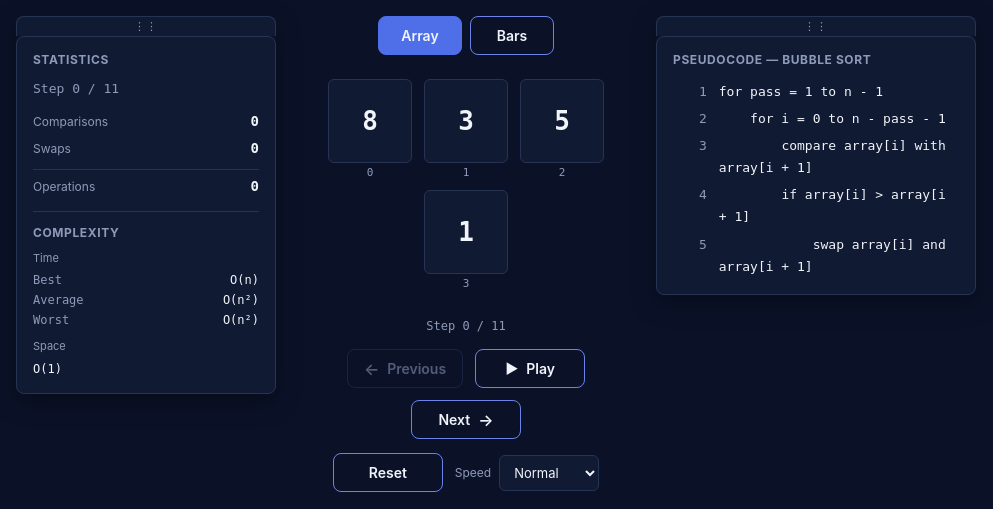
Scenario: CodeView integration — 5. Previous updates code highlighting correctly › undoing back to the very first operation clears the active line entirely
Click the button "Next →". click: x=466, y=420
box: [411,400,521,439]
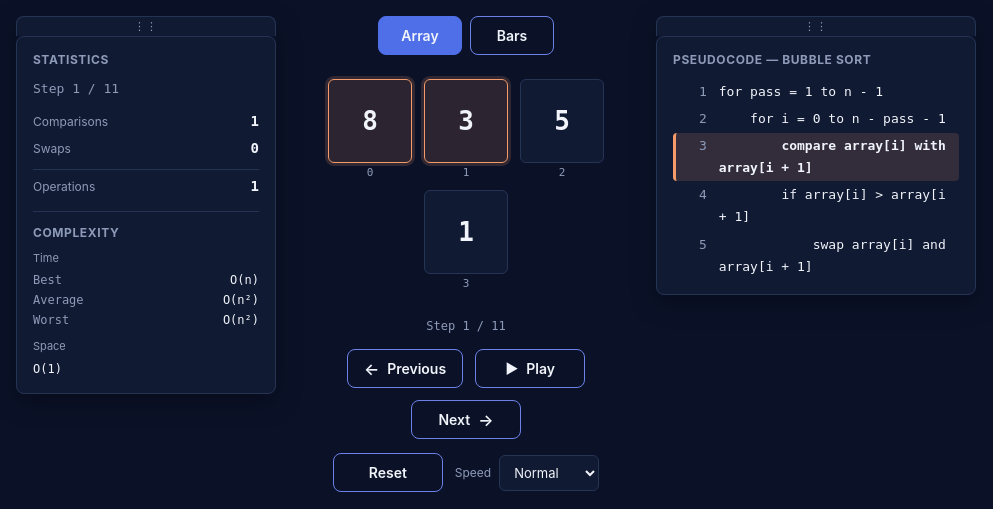
Click the button "← Previous". click: x=405, y=368
box: [347,349,463,388]
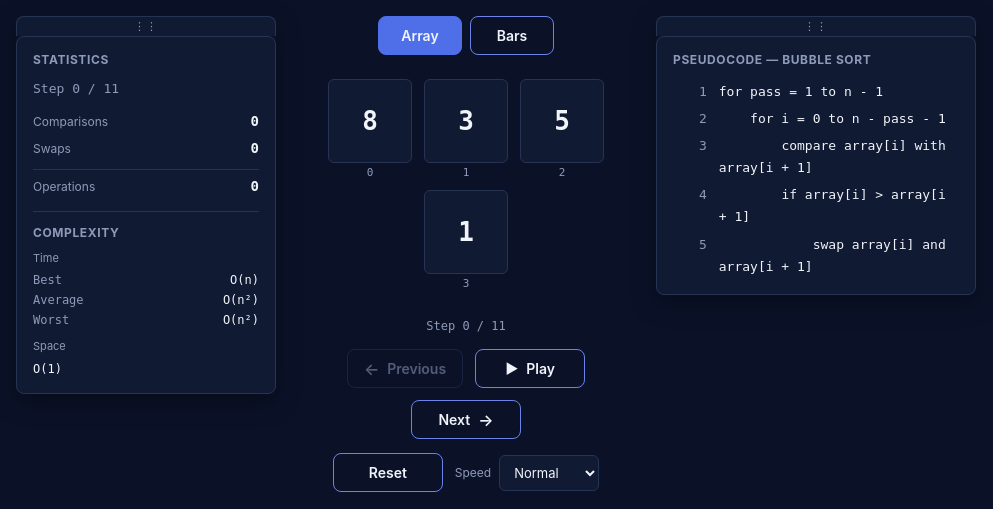
Now the button "← Previous" is disabled, box [347,349,463,388]
